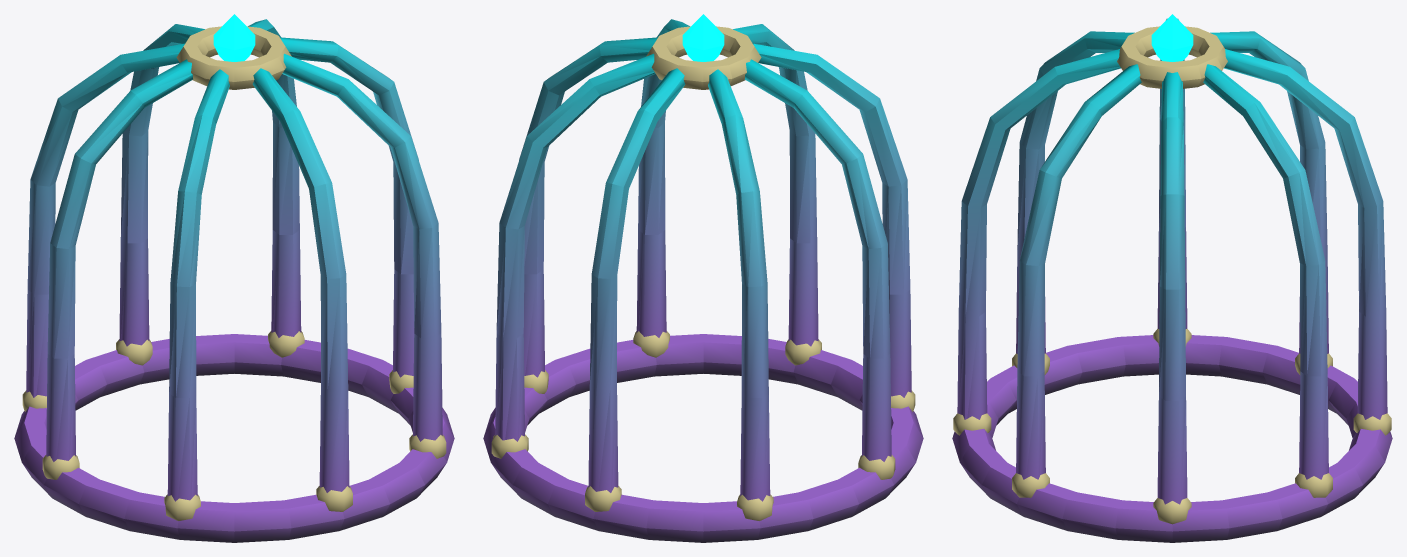
Rendered from cage.glb.
The picture shows the model from 3 angles, left to right: view 1: azimuth 30°, elevation 25°; view 2: azimuth 150°, elevation 25°; view 3: azimuth 270°, elevation 25°; orthographic projection.
Visible parts, largest first — view 1: Base, Bar7, Bar5, Bar6, Bar4, Bar8, Bar1, Bar3, Bar2, Top, Glow_00E5FF; view 2: Base, Bar7, Bar1, Bar8, Bar2, Bar6, Bar5, Bar3, Bar4, Top, Glow_00E5FF; view 3: Base, Bar2, Bar4, Bar3, Bar1, Bar5, Bar6, Bar8, Top, Glow_00E5FF, Bar7.
Boxes of the visible parts, left/top/right/bottom form: Base: left=14, top=334, right=454, bottom=542; Bar7: left=42, top=59, right=193, bottom=479; Bar5: left=252, top=68, right=352, bottom=511; Bar6: left=164, top=69, right=229, bottom=520; Bar4: left=282, top=53, right=446, bottom=458; Bar8: left=22, top=43, right=184, bottom=411; Bar1: left=116, top=24, right=204, bottom=365; Bar3: left=280, top=37, right=418, bottom=393; Bar2: left=248, top=19, right=304, bottom=357; Top: left=176, top=26, right=291, bottom=89; Glow_00E5FF: left=213, top=14, right=255, bottom=61; Base: left=483, top=334, right=923, bottom=542; Bar7: left=744, top=59, right=895, bottom=479; Bar1: left=585, top=68, right=685, bottom=511; Bar8: left=708, top=69, right=773, bottom=520; Bar2: left=491, top=53, right=655, bottom=458; Bar6: left=753, top=43, right=915, bottom=411; Bar5: left=733, top=24, right=821, bottom=365; Bar3: left=519, top=37, right=657, bottom=393; Bar4: left=633, top=19, right=689, bottom=357; Top: left=646, top=26, right=761, bottom=89; Glow_00E5FF: left=682, top=14, right=724, bottom=61; Base: left=952, top=335, right=1392, bottom=542; Bar2: left=1203, top=64, right=1332, bottom=497; Bar4: left=1012, top=64, right=1141, bottom=497; Bar3: left=1153, top=72, right=1191, bottom=524; Bar1: left=1224, top=49, right=1391, bottom=435; Bar5: left=953, top=49, right=1120, bottom=435; Bar6: left=1012, top=31, right=1134, bottom=374; Bar8: left=1210, top=31, right=1332, bottom=374; Top: left=1117, top=26, right=1227, bottom=88; Glow_00E5FF: left=1151, top=14, right=1193, bottom=61; Bar7: left=1153, top=18, right=1191, bottom=346.
Size of the model in its own units: 11 by 12.13 by 11.
